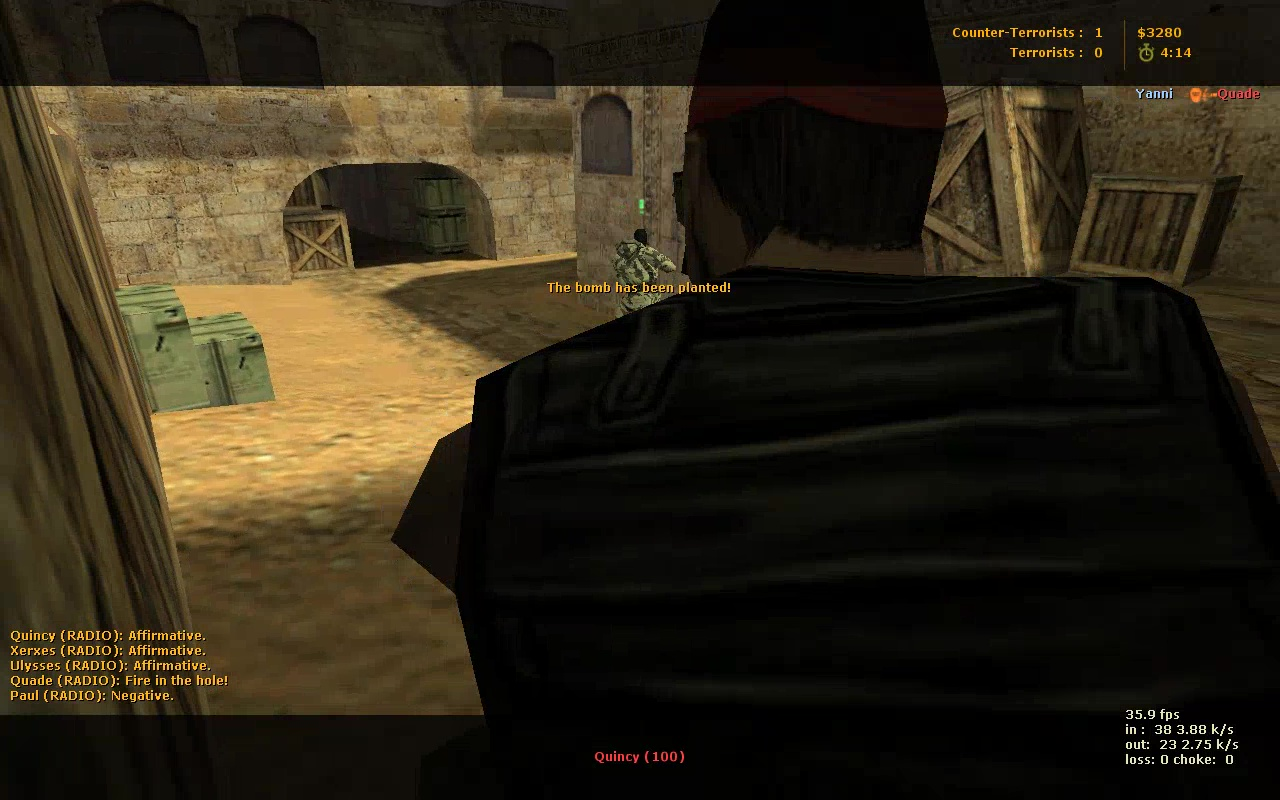terr1: (435, 81, 1126, 713)
terr2: (610, 229, 672, 316)
